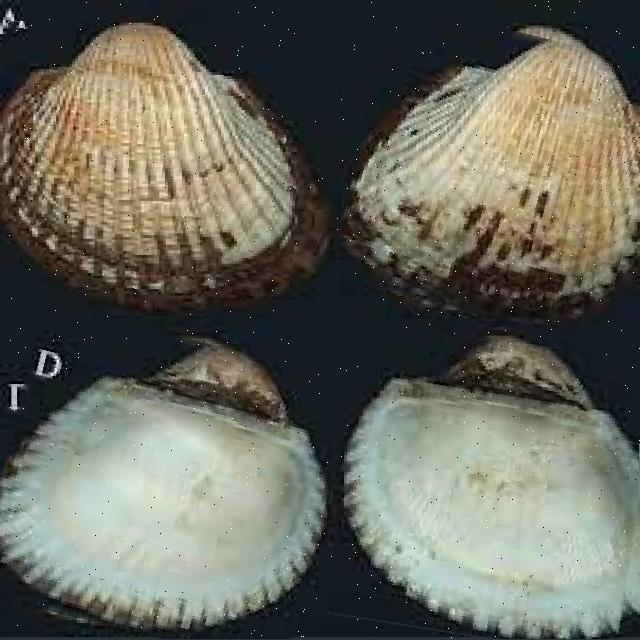Anadara_kagoshimensis: (0, 320, 342, 640), (0, 24, 328, 313), (339, 330, 640, 640), (343, 16, 640, 328)
